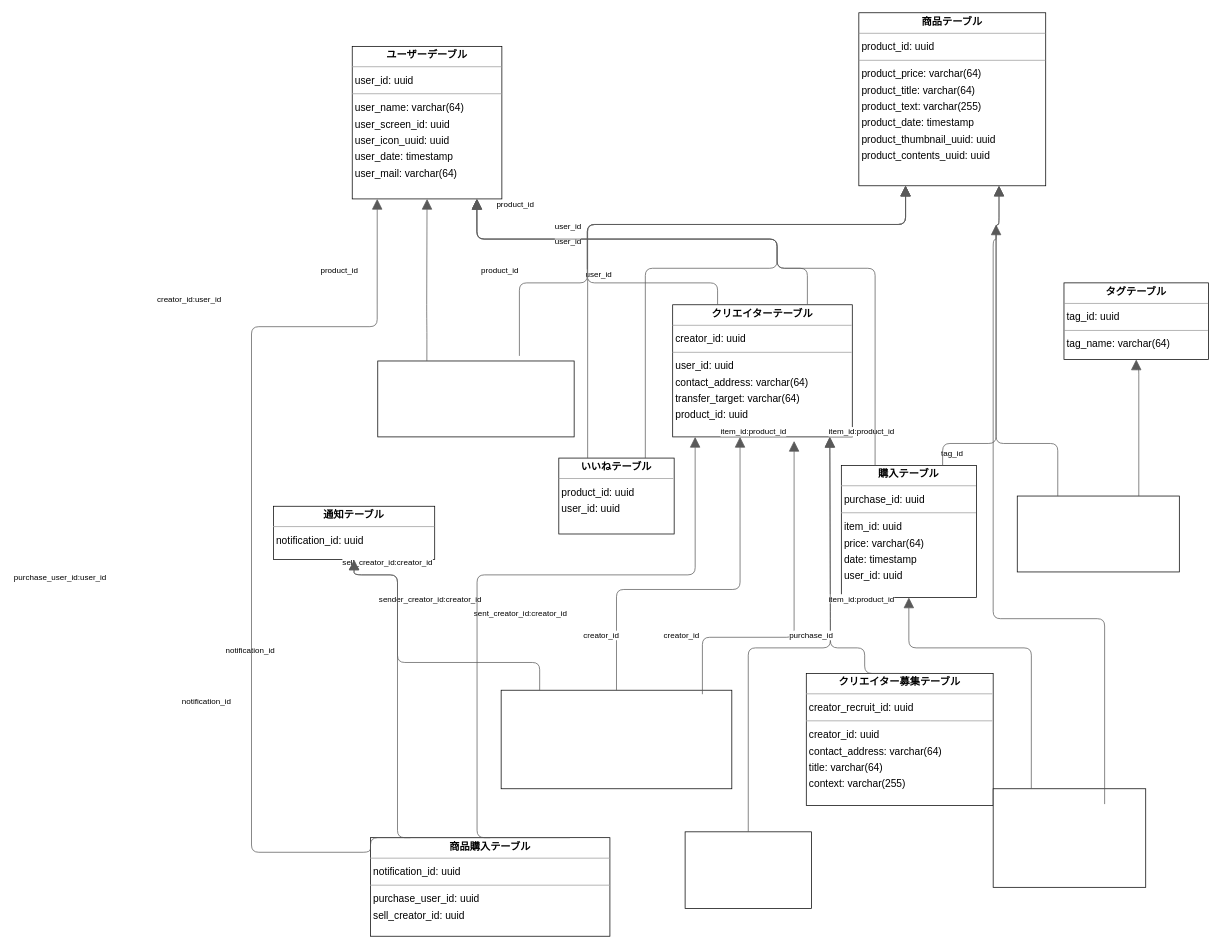
Some shapes in this 1221 by 949 pixel diagram are drawn without their labels. Each missing label, with the centre of its shape:
"クリエイター商品テーブル creator_id: uuid product_id: uuid" goes at (x=475, y=398).
"コラボ通知テーブル notification_id: uuid sender_creator_id: uuid sent_creator_id: uuid" goes at (x=616, y=739).
"シリアルコードテーブル purchase_id: uuid item_id: uuid serial_code: varchar(64)" goes at (x=1069, y=837).
"ランキングテーブル creator_id: uuid score: varchar(64)" goes at (x=747, y=869).
"商品タグテーブル item_id: uuid tag_id: uuid" goes at (x=1098, y=533).
